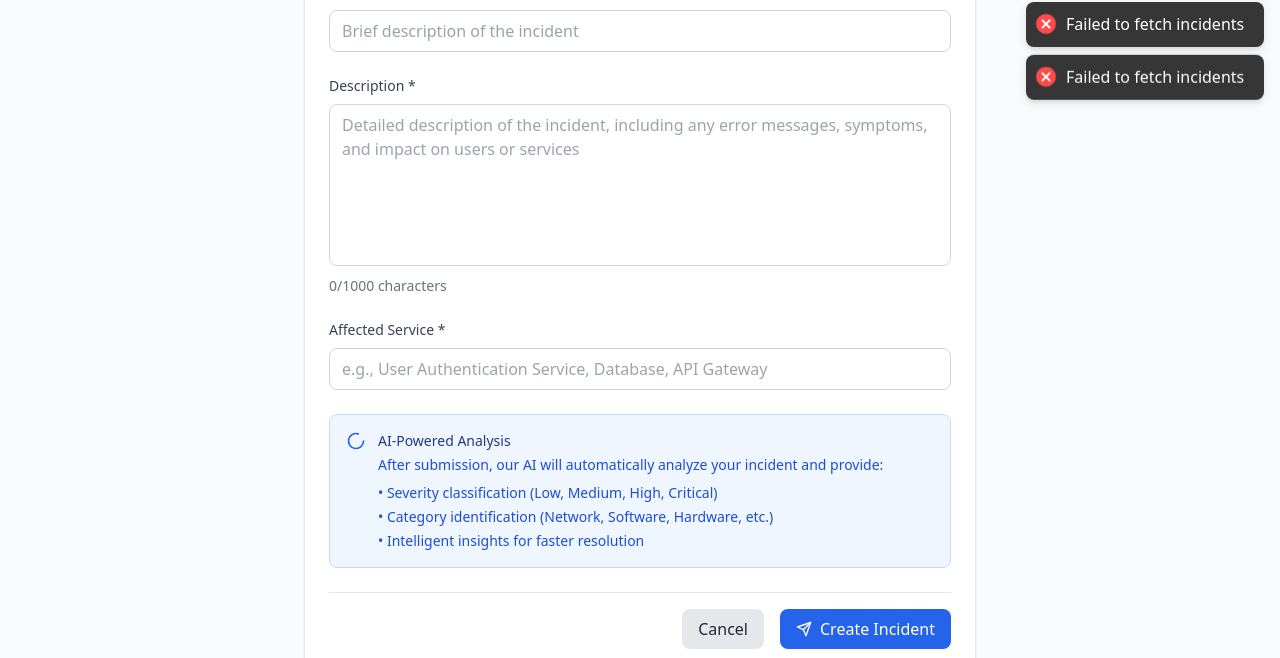
Create Incident › should clear validation errors when user types
(page scrolled)
Click the submit button at (866, 629), box [780,609,951,649]
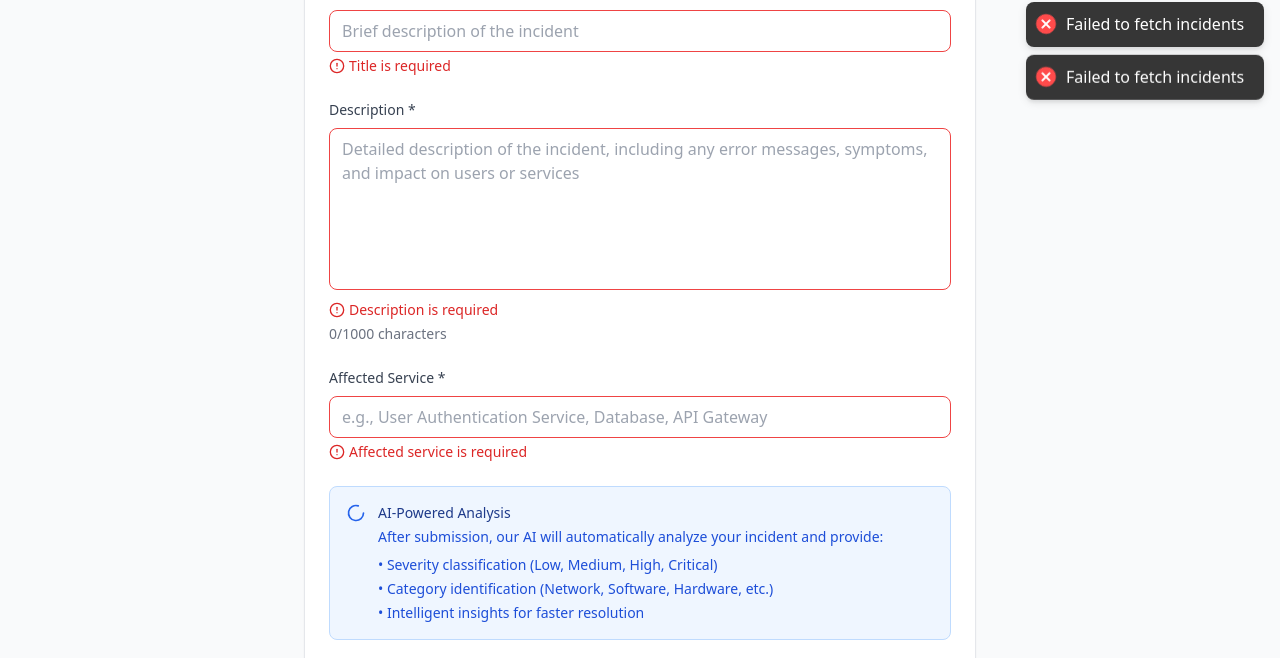
Expected: the element showing "Title is required" is shown, [329,56,451,75]
Type "Valid Title" into the field named "title" at (640, 31), box [329,10,951,52]
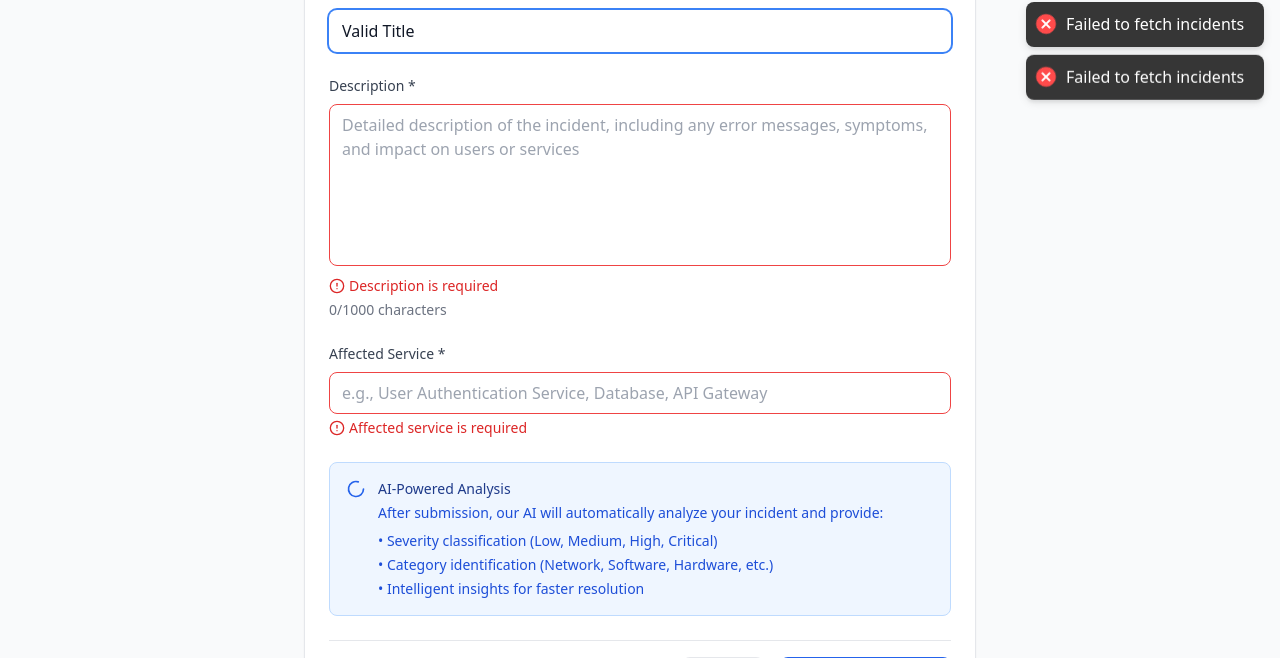
Expected: the text "Title is required" is gone
